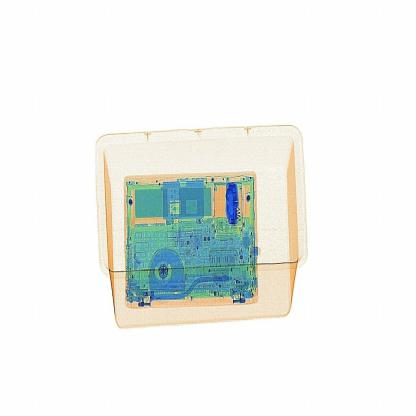scissors: (219, 177, 245, 231)
